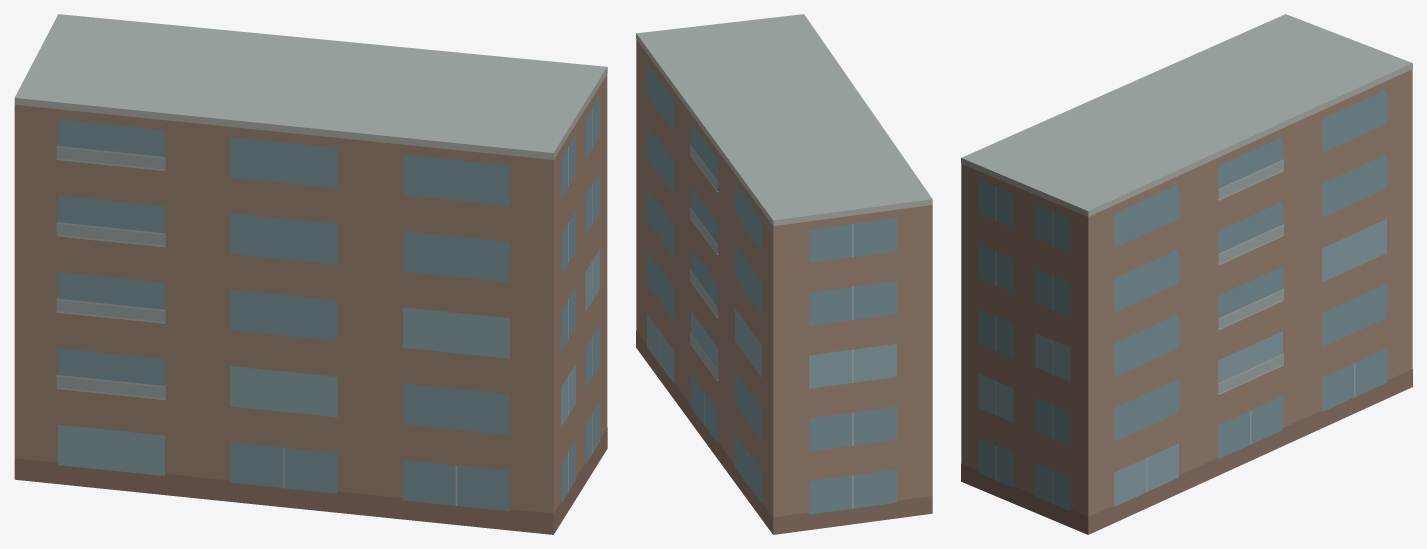
File: survey-upis-32739745.glb
3 views of the same model, side by side, from view 1: azimuth 30°, elevation 25°; view 2: azimuth 150°, elevation 25°; view 3: azimuth 270°, elevation 25° (orthographic). The views are drawn at different scales.
Visible parts, largest first — view 1: survey-upis-32739745.tmp; view 2: survey-upis-32739745.tmp; view 3: survey-upis-32739745.tmp.
Part boxes in pixels (box(x1,y1,x2,y2)): survey-upis-32739745.tmp: box(14, 14, 607, 534); survey-upis-32739745.tmp: box(636, 14, 932, 534); survey-upis-32739745.tmp: box(961, 14, 1412, 534).
Size of the model in its own units: 17.64 by 13.5 by 17.08.
